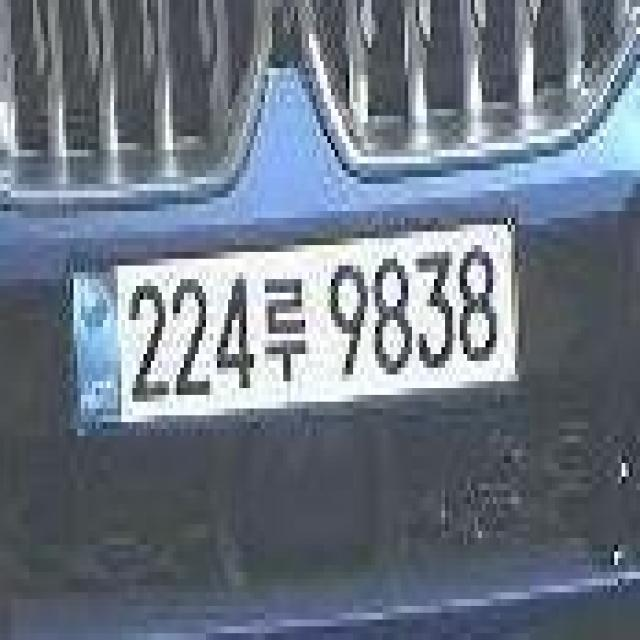illegal_plate: (61, 207, 526, 434)
